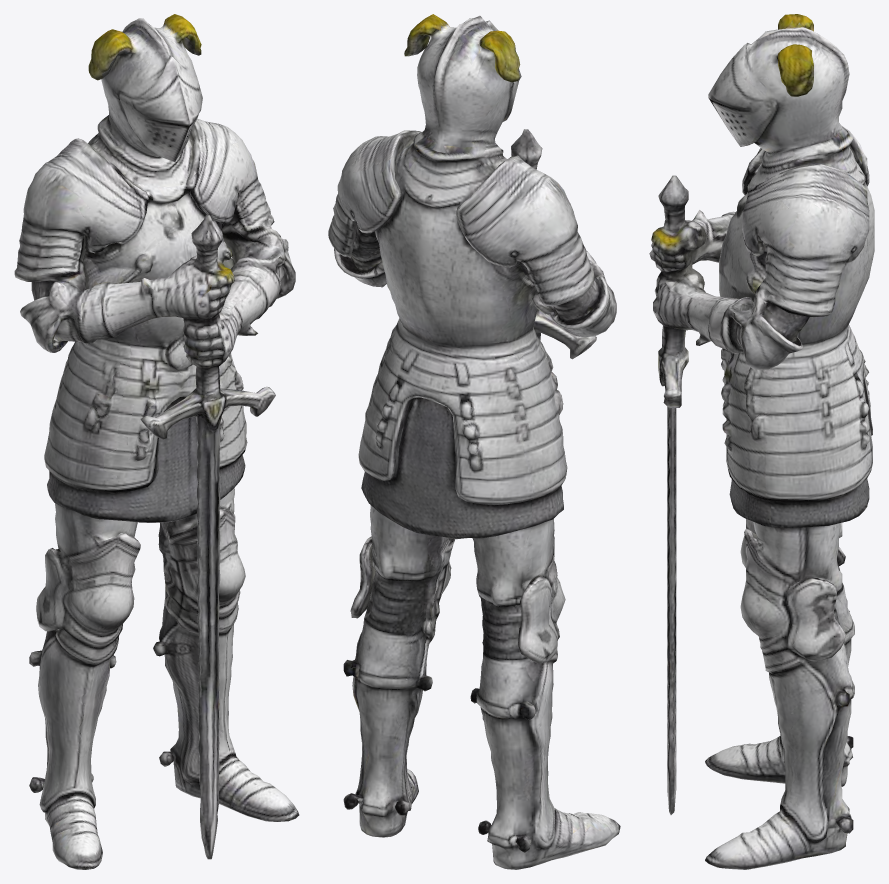
File: Guelphs_Knight_2h.glb
3 views of the same model, side by side, from view 1: azimuth 30°, elevation 25°; view 2: azimuth 150°, elevation 25°; view 3: azimuth 270°, elevation 25° (orthographic). The views are drawn at different scales.
Size of the model in its own units: 0.6615 by 1.91 by 0.4932.
Materials: 1 (1 with a texture image).
